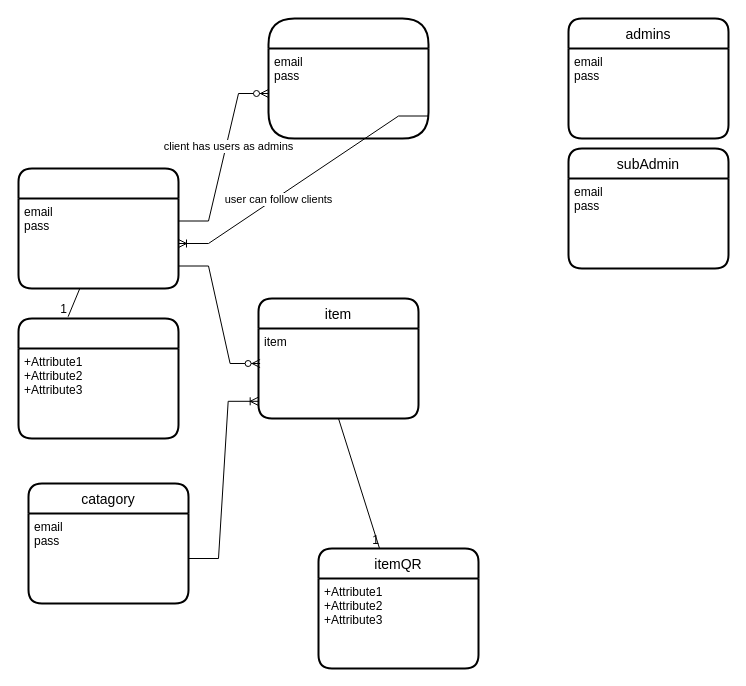
Some shapes in this 746 by 686 pixel diagram are drawn without their labels. The box of each missing label's shape, as (x1, y1, x2, y2) in pixels:
client: (17, 167, 179, 289)
clientQR: (17, 317, 179, 439)
Users: (267, 17, 429, 139)
